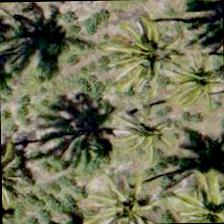Kelapa_Sawit: (92, 90, 184, 182), (103, 8, 195, 100), (156, 36, 224, 128), (74, 163, 167, 223), (161, 157, 223, 223)
